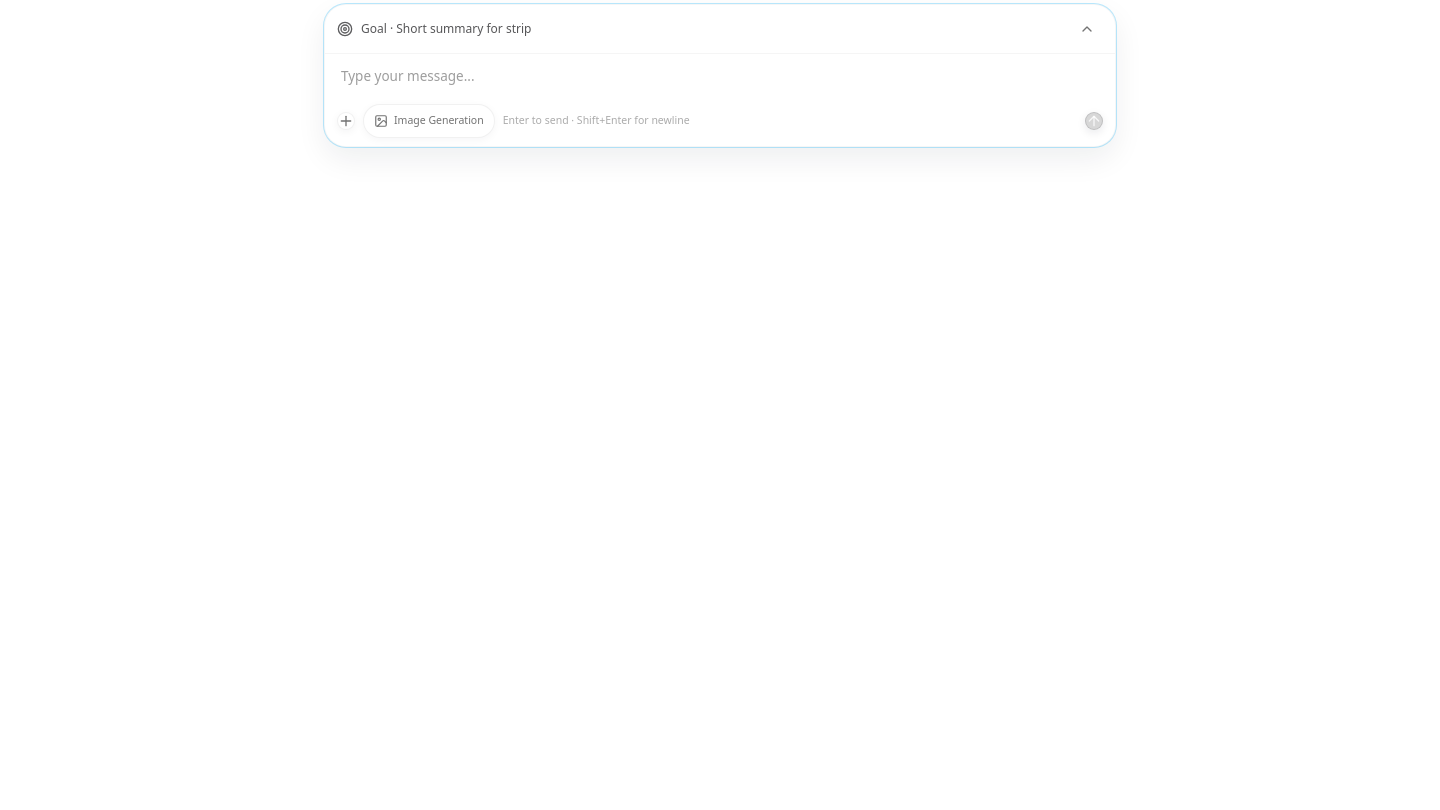
Test case: ThreadComposer › opens a bottom sheet with full thread goal when expand is clicked
Click the button named "Show full goal" at (1087, 29), box [1071, 13, 1103, 45]
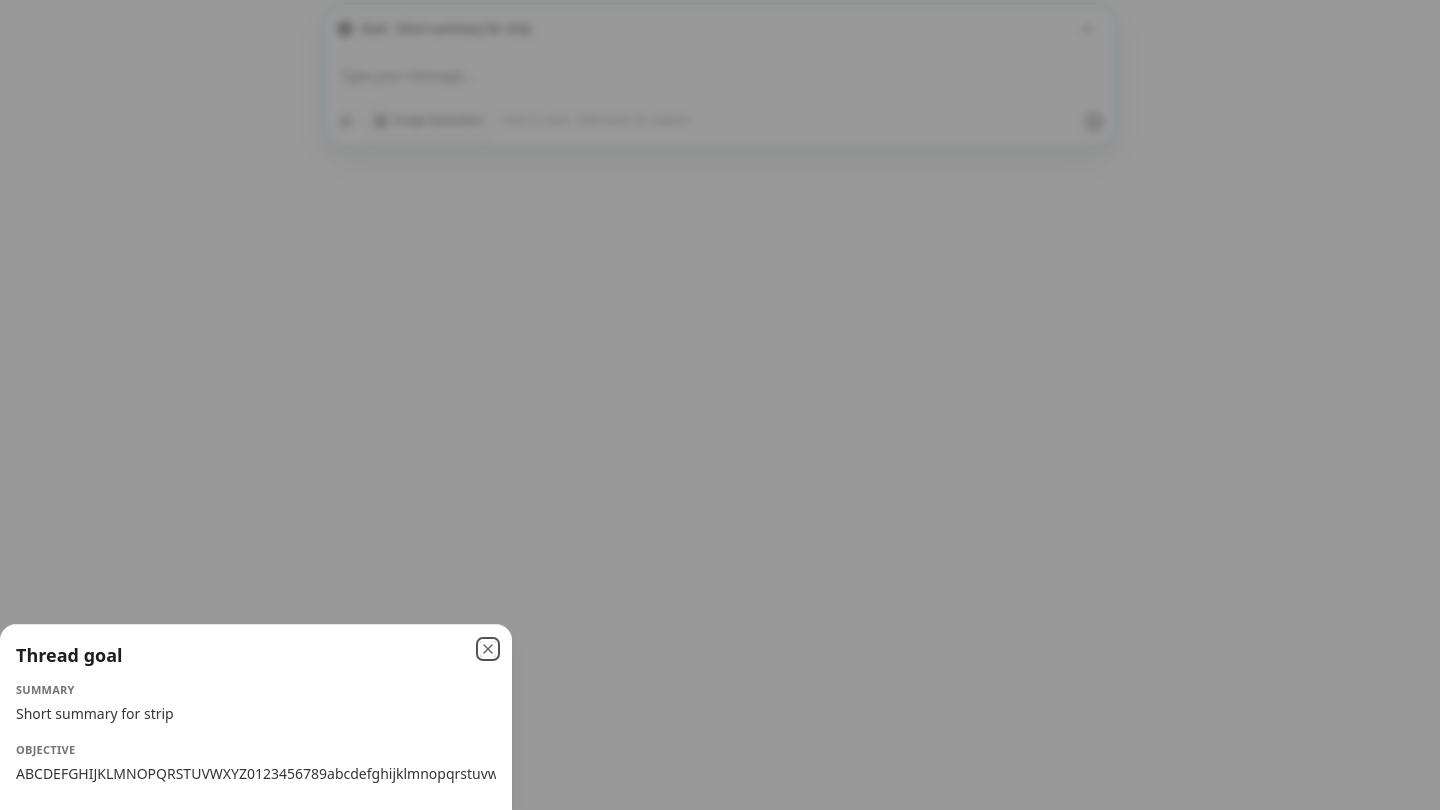
Result: the dialog is shown at [0, 624, 512, 809]
Result: the dialog shows "Short summary for strip" at [16, 704, 174, 723]
Result: the dialog shows "ABCDEFGHIJKLMNOPQRSTUVWXYZ0123456789abcdefghijklmnopqrstuvwxyz0123456789GoalTail" at [16, 764, 652, 783]
